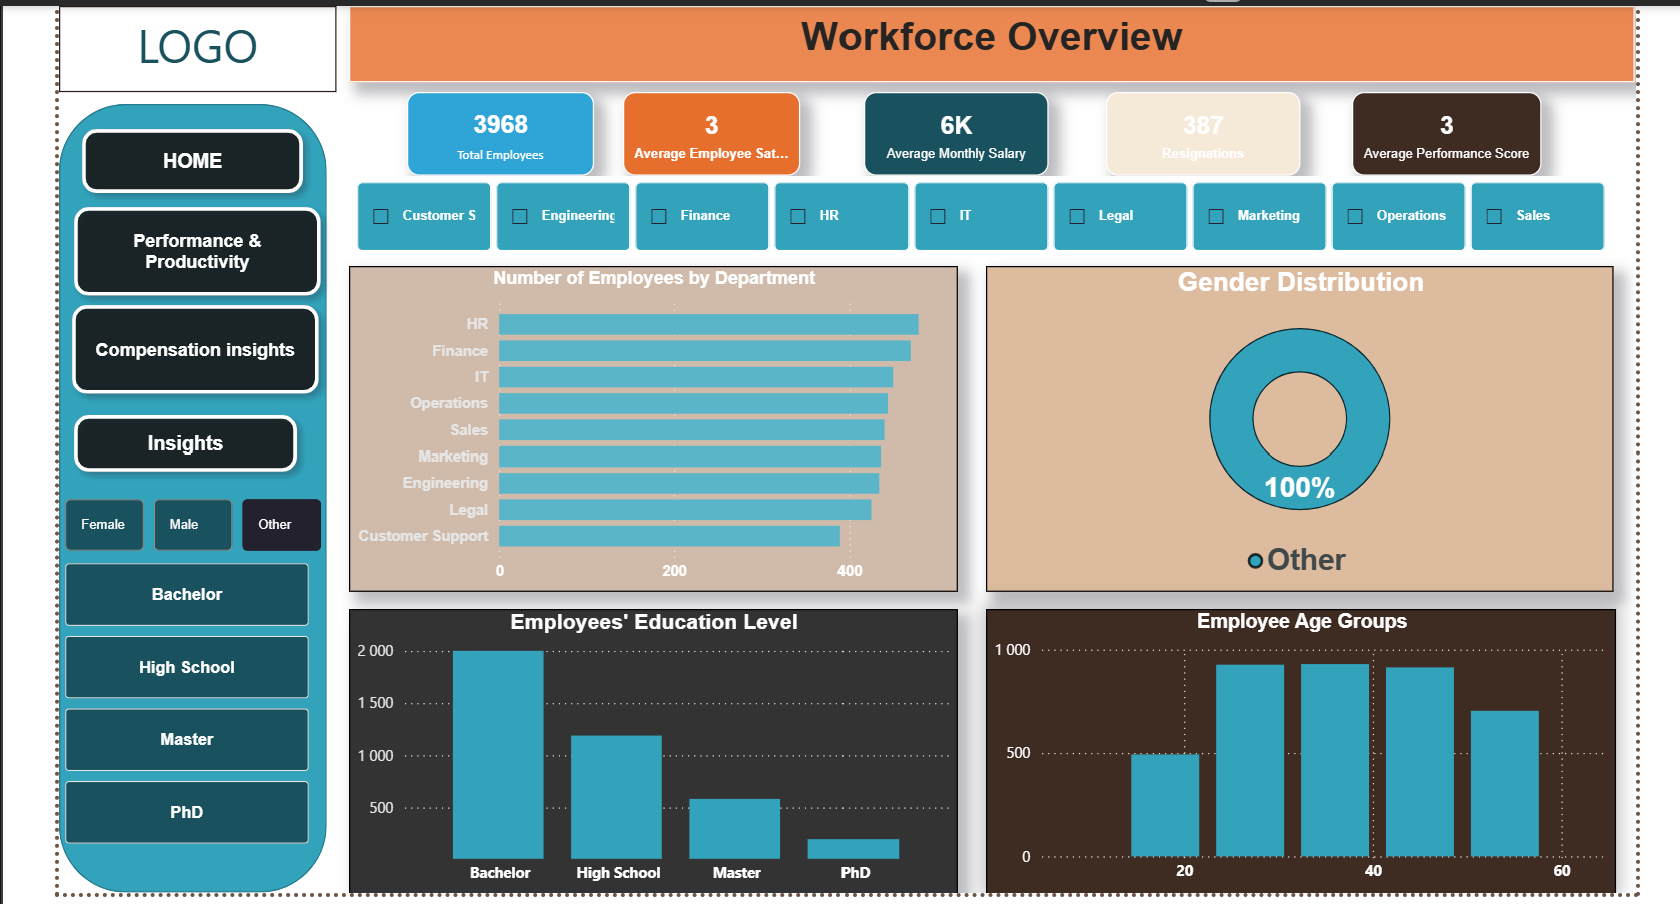

The page's visual inventory and layout, read from the dashboard file:
{"tool":"powerbi","page":{"name":"Home","canvas":[1280,720],"ordinal":0},"visuals":[{"type":"shape","box":[0,80,217.5,640],"z":0},{"type":"textbox","box":[236,0,1044,62],"z":1000},{"type":"card","fields":{"Values":["Count(Extended_Employee_Performance_and_Productivity_Data.Employee_ID)"]},"box":[282,70,152,68],"z":2000},{"type":"card","fields":{"Values":["Avg(Extended_Employee_Performance_and_Productivity_Data.Monthly_Salary)"]},"box":[654,70,150,68],"z":3000},{"type":"card","fields":{"Values":["Avg(Extended_Employee_Performance_and_Productivity_Data.Employee_Satisfaction_Score)"]},"box":[458,70,144,68],"z":4000},{"type":"card","fields":{"Values":["Extended_Employee_Performance_and_Productivity_Data.Resigned_true"]},"box":[850,70,158,68],"z":5000},{"type":"clusteredBarChart","title":"Number of Employees by Department","fields":{"Category":["Extended_Employee_Performance_and_Productivity_Data.Department"],"Y":["CountNonNull(Extended_Employee_Performance_and_Productivity_Data.Employee_ID)"]},"box":[236,212,494,264],"z":6000},{"type":"donutChart","title":"Gender Distribution","fields":{"Category":["Extended_Employee_Performance_and_Productivity_Data.Gender"],"Y":["CountNonNull(Extended_Employee_Performance_and_Productivity_Data.Employee_ID)"]},"box":[752,212,510,264],"z":7000},{"type":"clusteredColumnChart","title":"Employees'' Education Level","fields":{"Category":["Extended_Employee_Performance_and_Productivity_Data.Education_Level"],"Y":["CountNonNull(Extended_Employee_Performance_and_Productivity_Data.Employee_ID)"]},"box":[236,490,494,234],"z":8000},{"type":"clusteredColumnChart","title":"Employee Age Groups","fields":{"Category":["Extended_Employee_Performance_and_Productivity_Data.Age_groups"],"Y":["CountNonNull(Extended_Employee_Performance_and_Productivity_Data.Employee_ID)"]},"box":[752,490,512,232],"z":9000},{"type":"actionButton","box":[10,90.8,197.5,70],"z":10000},{"type":"card","fields":{"Values":["Avg(Extended_Employee_Performance_and_Productivity_Data.Performance_Score)"]},"box":[1050,70,154,68],"z":11000},{"type":"actionButton","box":[3.3,155,218.3,90],"z":12000},{"type":"actionButton","box":[0.8,233.3,218.3,90],"z":13000},{"type":"advancedSlicerVisual","fields":{"Values":["Extended_Employee_Performance_and_Productivity_Data.Department"]},"box":[238,138,1028,66],"z":14000},{"type":"advancedSlicerVisual","fields":{"Values":["Extended_Employee_Performance_and_Productivity_Data.Gender"]},"box":[0,395,218.8,52.5],"z":15000},{"type":"advancedSlicerVisual","fields":{"Values":["Extended_Employee_Performance_and_Productivity_Data.Education_Level"]},"box":[0,447.5,208.8,240],"z":16000},{"type":"textbox","box":[0,0,225.4,70],"z":17000},{"type":"actionButton","box":[3.3,323.3,199.2,63.3],"z":18000}]}

Visuals, with their boxes in screenshot pixels (x1, y1, x2, y2):
shape: (left=48, top=99, right=318, bottom=893)
textbox: (left=341, top=0, right=1636, bottom=77)
card - Count(Extended_Employee_Performance_and_Productivity_Data.Employee_ID): (left=398, top=87, right=586, bottom=171)
card - Avg(Extended_Employee_Performance_and_Productivity_Data.Monthly_Salary): (left=859, top=87, right=1045, bottom=171)
card - Avg(Extended_Employee_Performance_and_Productivity_Data.Employee_Satisfaction_Score): (left=616, top=87, right=795, bottom=171)
card - Extended_Employee_Performance_and_Productivity_Data.Resigned_true: (left=1102, top=87, right=1298, bottom=171)
"Number of Employees by Department" clusteredBarChart: (left=341, top=263, right=954, bottom=590)
"Gender Distribution" donutChart: (left=981, top=263, right=1614, bottom=590)
"Employees'' Education Level" clusteredColumnChart: (left=341, top=608, right=954, bottom=898)
"Employee Age Groups" clusteredColumnChart: (left=981, top=608, right=1616, bottom=896)
actionButton: (left=61, top=113, right=306, bottom=199)
card - Avg(Extended_Employee_Performance_and_Productivity_Data.Performance_Score): (left=1351, top=87, right=1542, bottom=171)
actionButton: (left=52, top=192, right=323, bottom=304)
actionButton: (left=49, top=289, right=320, bottom=401)
advancedSlicerVisual - Extended_Employee_Performance_and_Productivity_Data.Department: (left=343, top=171, right=1618, bottom=253)
advancedSlicerVisual - Extended_Employee_Performance_and_Productivity_Data.Gender: (left=48, top=490, right=320, bottom=555)
advancedSlicerVisual - Extended_Employee_Performance_and_Productivity_Data.Education_Level: (left=48, top=555, right=307, bottom=853)
textbox: (left=48, top=0, right=328, bottom=87)
actionButton: (left=52, top=401, right=299, bottom=480)
